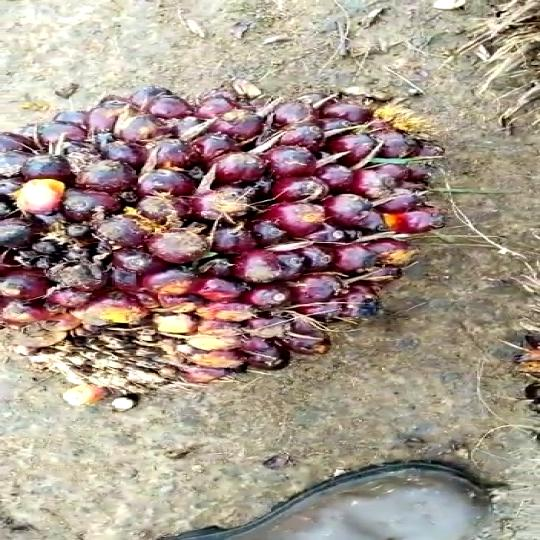mentah: (0, 79, 450, 396)
